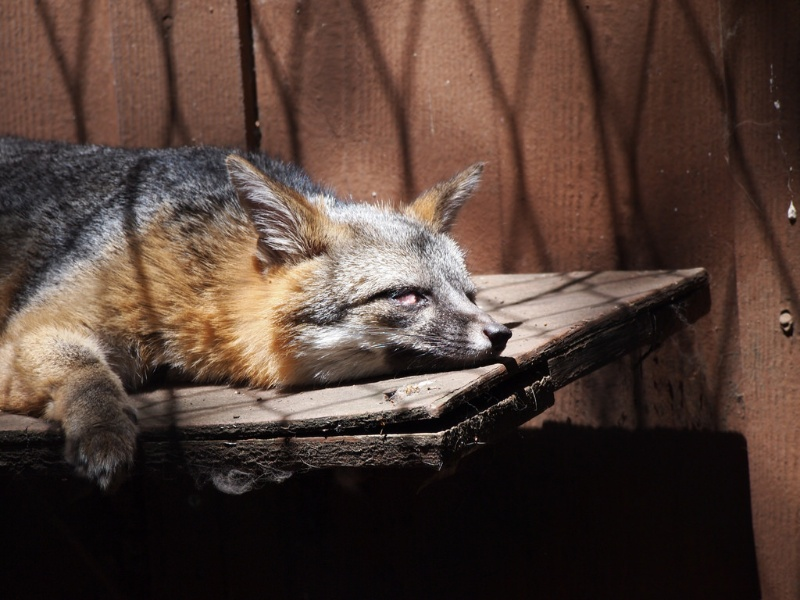fox: (1, 95, 512, 500)
